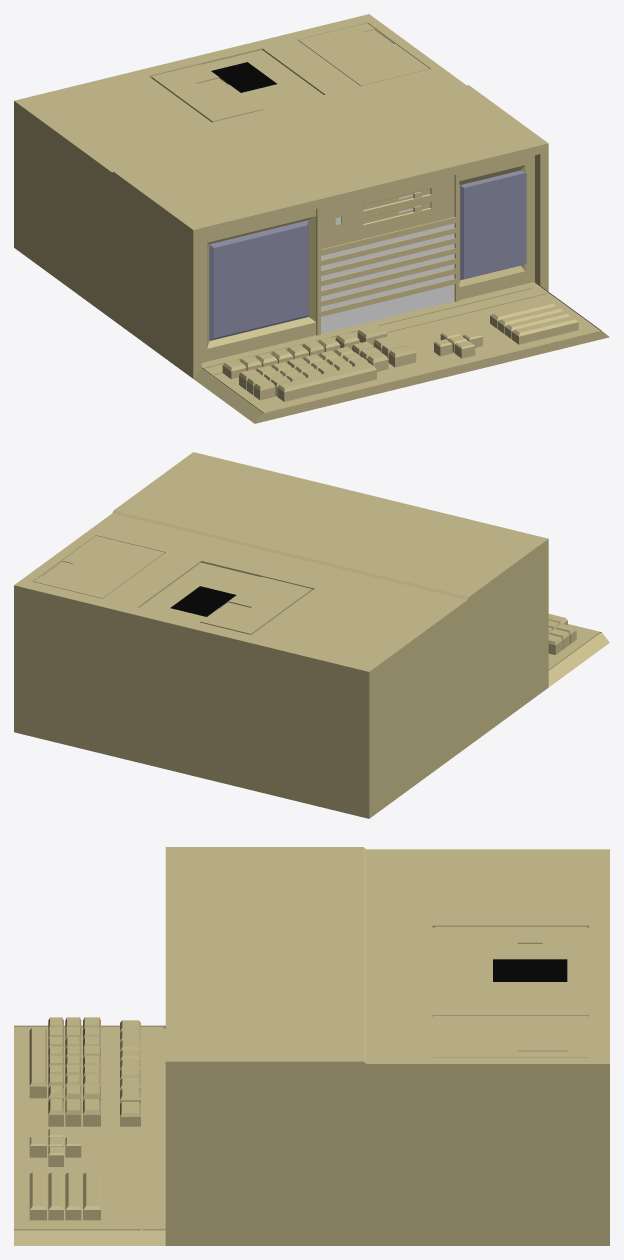
The model's file is PortableComputer.fbx.
The picture shows the model from 3 angles, top to bottom: view 1: azimuth 30°, elevation 25°; view 2: azimuth 150°, elevation 25°; view 3: azimuth 270°, elevation 25°; orthographic projection. The views are drawn at different scales.
Visible parts, largest first — view 1: Cube.008; view 2: Cube.008; view 3: Cube.008.
Boxes of the visible parts, x1,y1,x2,y2 form: Cube.008: [14, 14, 609, 423]; Cube.008: [14, 452, 609, 818]; Cube.008: [14, 847, 609, 1245].
Size of the model in its own units: 16.22 by 6.5 by 19.04.
